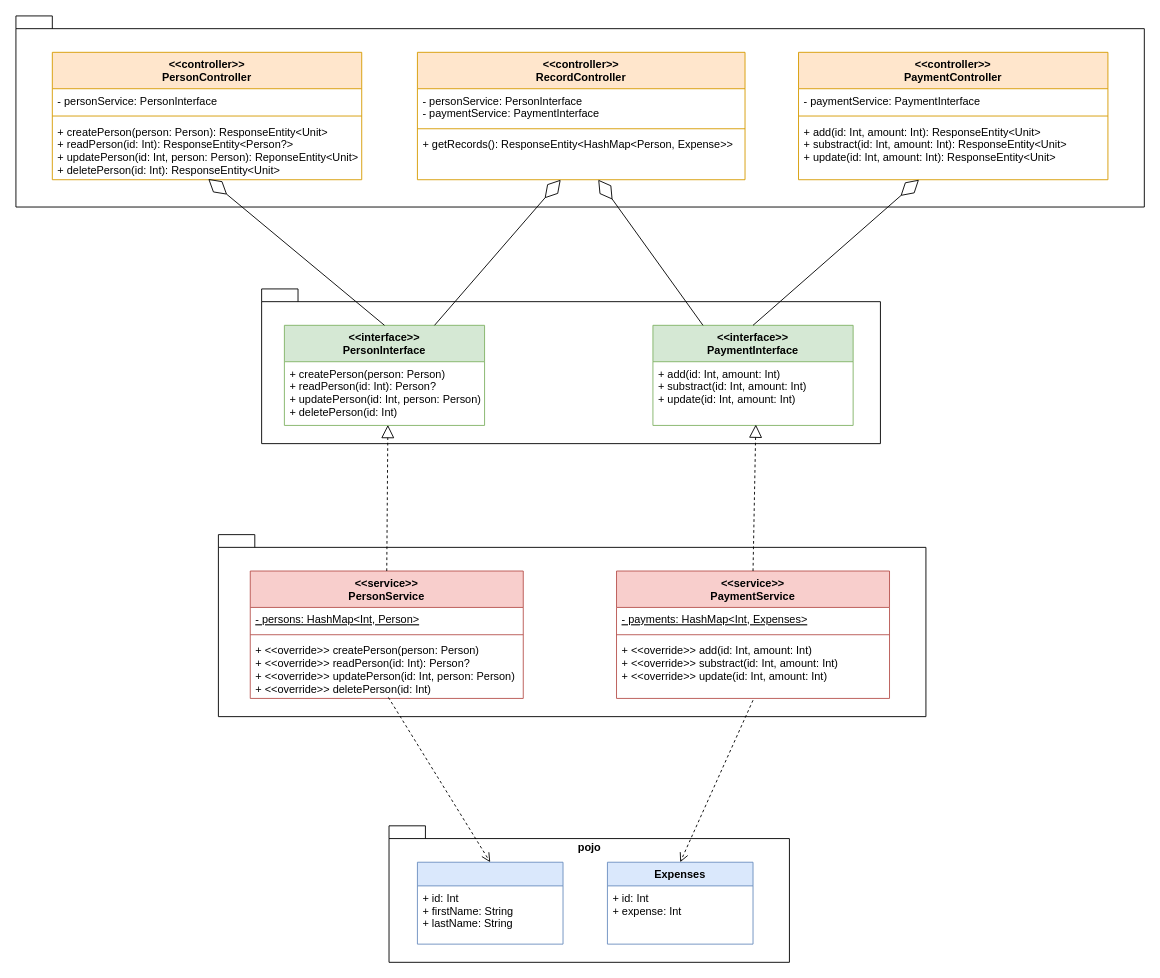
Some shapes in this 1160 by 978 pixel diagram are drawn without their labels. The box of each missing label's shape, as (x1, y1, x2, y2) in pixels:
controllers: (15, 15, 1144, 207)
interfaces: (261, 288, 880, 444)
Person: (417, 861, 563, 944)
services: (217, 534, 926, 717)
